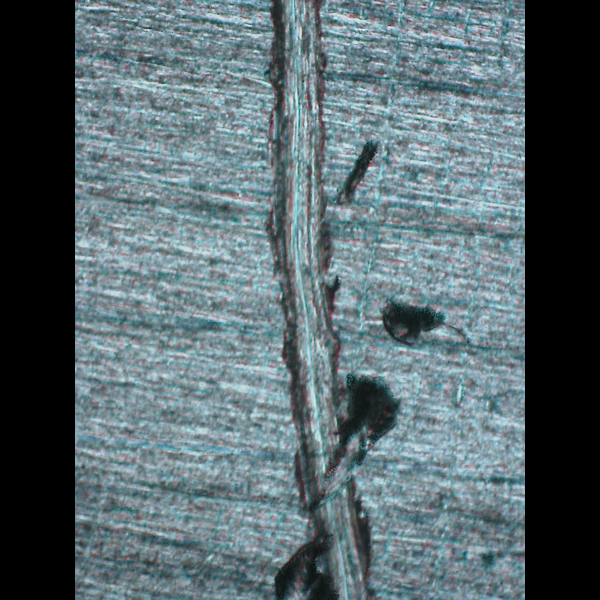d: (243, 0, 461, 598)
